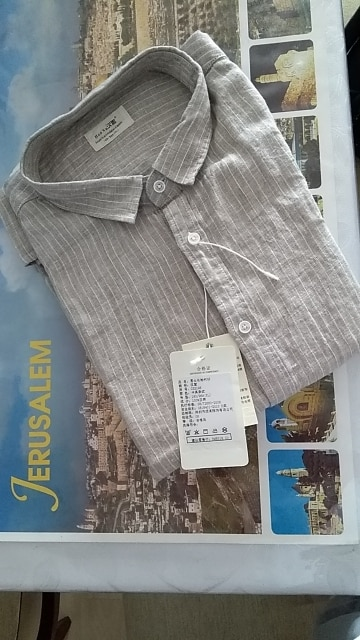shirts: (15, 37, 360, 473)
